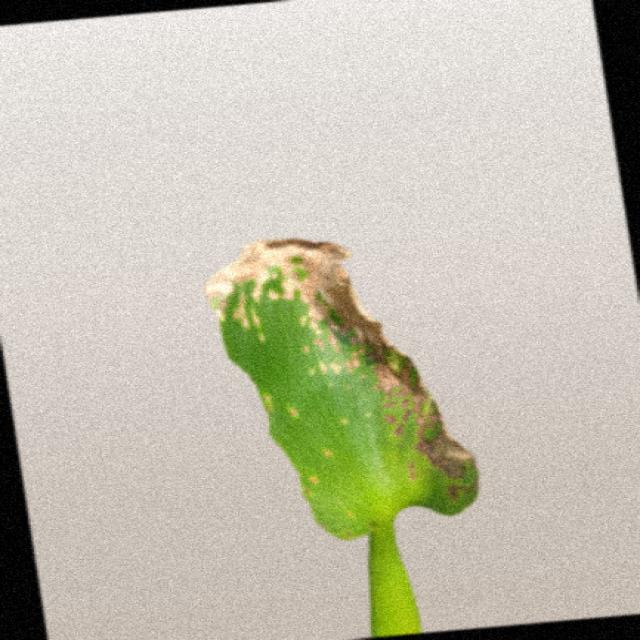daun berpenyakit bercak: (205, 239, 476, 636)
